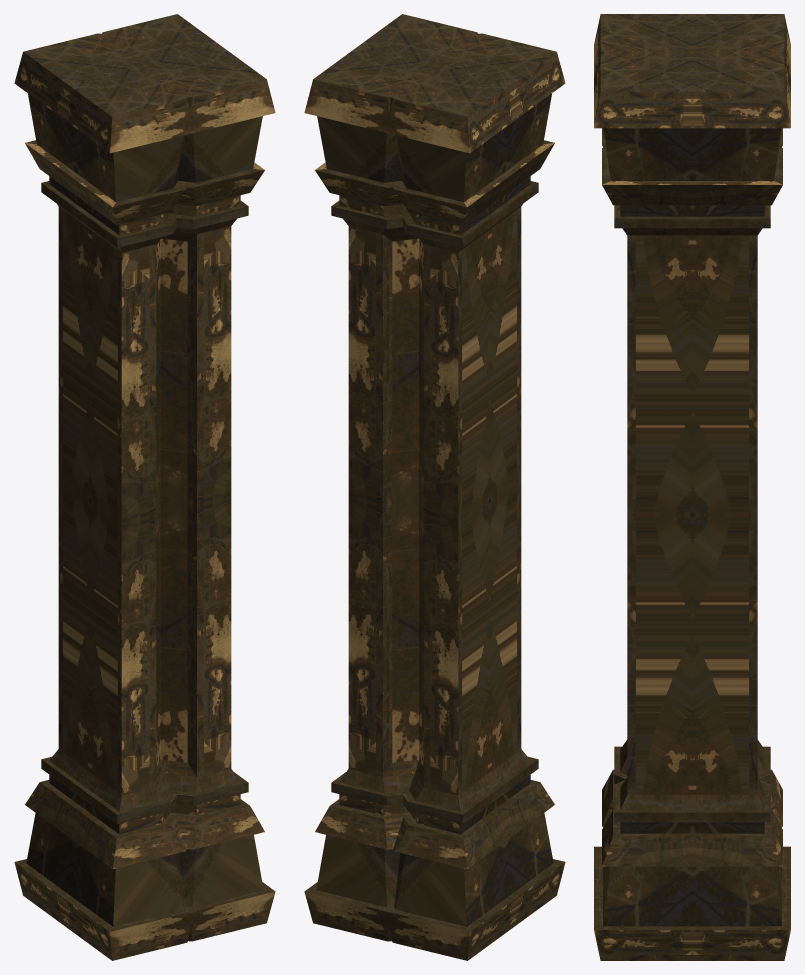
Rendered from squarePillarPrefab.fbx.
The picture shows the model from 3 angles, left to right: view 1: azimuth 30°, elevation 25°; view 2: azimuth 150°, elevation 25°; view 3: azimuth 270°, elevation 25°; orthographic projection. The views are drawn at different scales.
Parts seen in each view (by area): view 1: Cube.001; view 2: Cube.001; view 3: Cube.001.
Boxes of the visible parts, x1,y1,x2,y2 form: Cube.001: (14, 14, 275, 960); Cube.001: (304, 14, 565, 960); Cube.001: (594, 14, 790, 960).
Size of the model in its own units: 45.41 by 221 by 45.41.
